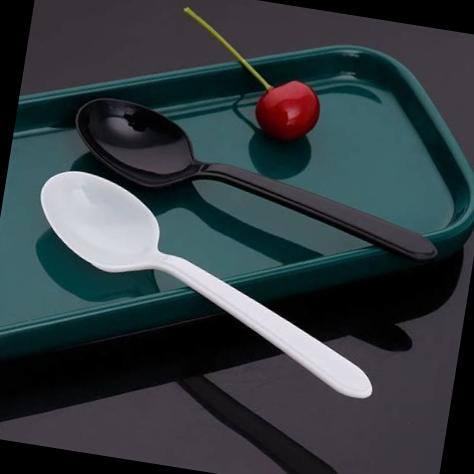Plastik: (41, 171, 371, 397), (75, 98, 436, 260)
